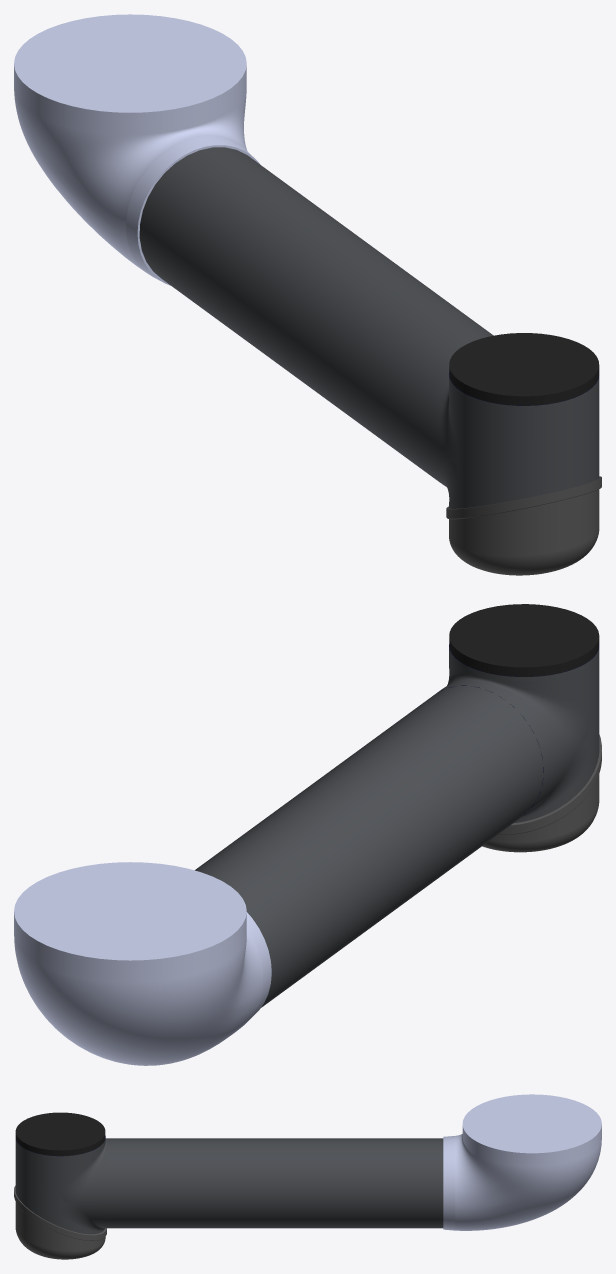
File: Forearm.obj
3 renders of one model, top to bottom at view 1: azimuth 30°, elevation 25°; view 2: azimuth 150°, elevation 25°; view 3: azimuth 270°, elevation 25°, orthographic. The views are drawn at different scales.
Visible parts, largest first — view 1: Actor1, Actor3, Actor2, Actor0; view 2: Actor1, Actor3, Actor2, Actor0; view 3: Actor1, Actor3, Actor2, Actor0.
Boxes of the visible parts, box(x1,y1,x2,y2) form: Actor1: box(139, 147, 493, 476); Actor3: box(14, 14, 259, 285); Actor2: box(413, 333, 599, 508); Actor0: box(446, 476, 601, 575); Actor1: box(195, 686, 543, 1007); Actor3: box(14, 862, 271, 1065); Actor2: box(436, 604, 599, 822); Actor0: box(482, 734, 601, 852); Actor1: box(115, 1138, 443, 1228); Actor3: box(443, 1094, 601, 1230); Actor2: box(15, 1112, 115, 1234); Actor0: box(14, 1185, 106, 1259).
Size of the model in its own units: 0.116 by 0.1117 by 0.4892.
